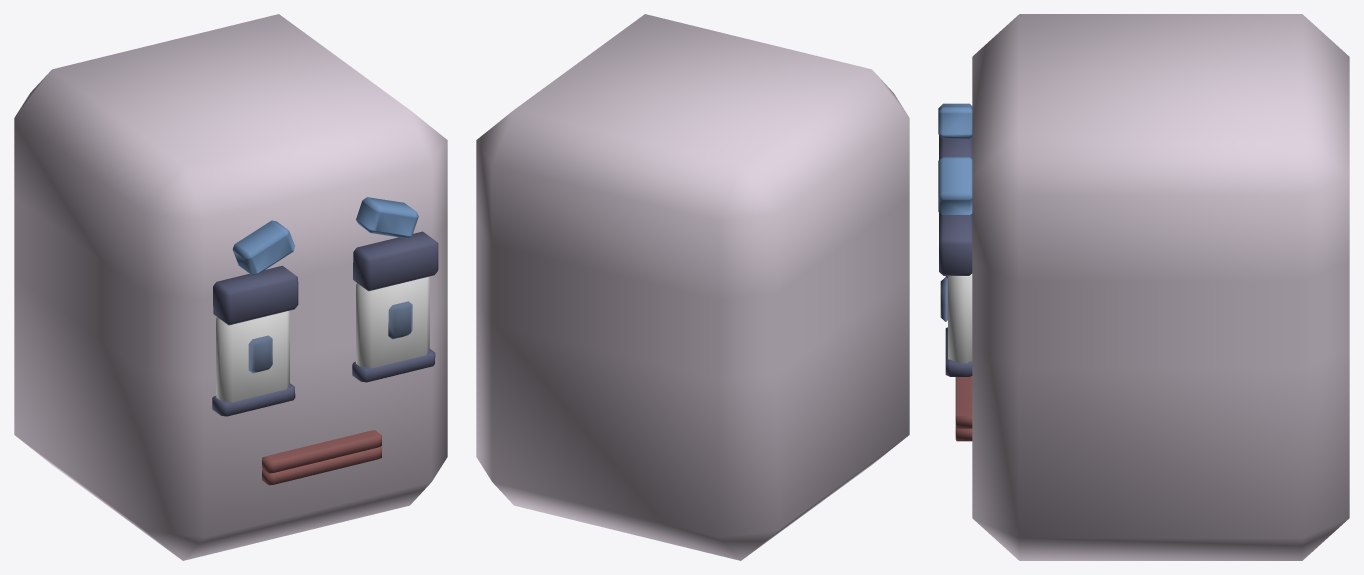
Rendered from Robot_1.glb.
3 views of the same model, side by side, from view 1: azimuth 30°, elevation 25°; view 2: azimuth 150°, elevation 25°; view 3: azimuth 270°, elevation 25° (orthographic). The views are drawn at different scales.
Parts seen in each view (by area): view 1: robot; view 2: robot; view 3: robot.
Part boxes in pixels (x1,y1,x2,y2): robot: [14, 14, 447, 560]; robot: [476, 14, 909, 560]; robot: [938, 14, 1349, 560].
Bounding box in the file's own units: 0.8 × 1 × 0.8717.
